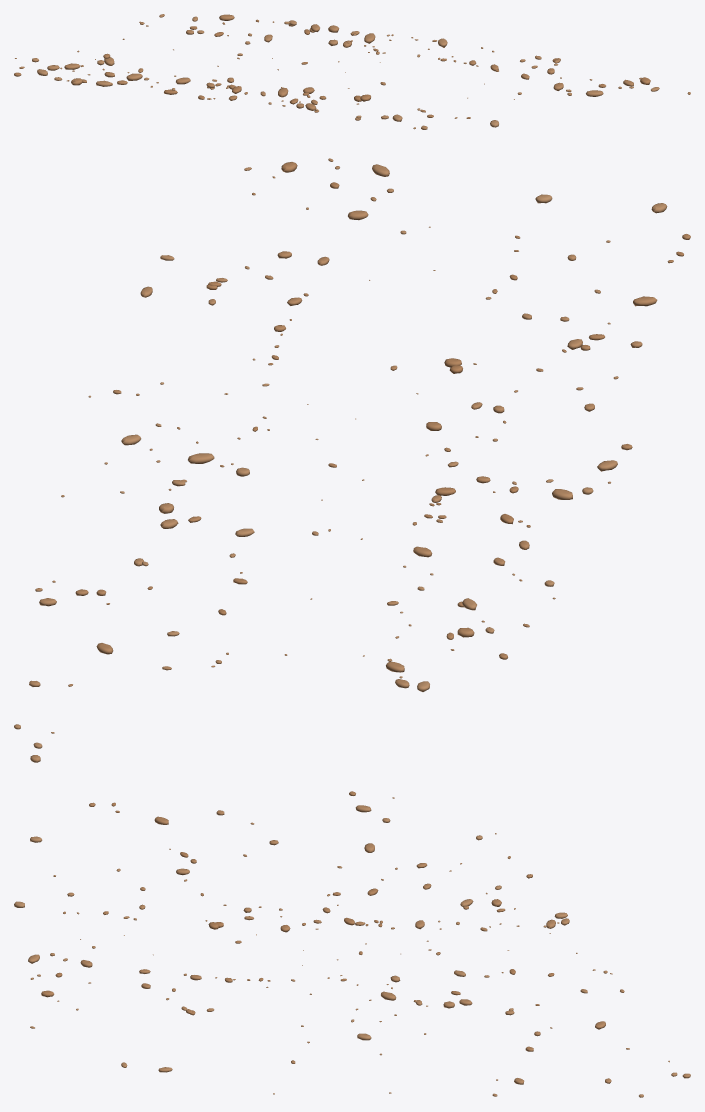
The model's file is terrain-108.glb.
The picture shows the model from 3 angles, top to bottom: view 1: azimuth 30°, elevation 25°; view 2: azimuth 150°, elevation 25°; view 3: azimuth 270°, elevation 25°; orthographic projection. The views are drawn at different scales.
Parts seen in each view (by area): view 1: terrain-108; view 2: terrain-108; view 3: terrain-108.
Boxes of the visible parts, bbox=[...] form: terrain-108: bbox=[14, 14, 690, 129]; terrain-108: bbox=[14, 158, 690, 762]; terrain-108: bbox=[14, 791, 690, 1097].
Bounding box in the file's own units: 53.41 × 21.54 × 67.34.
